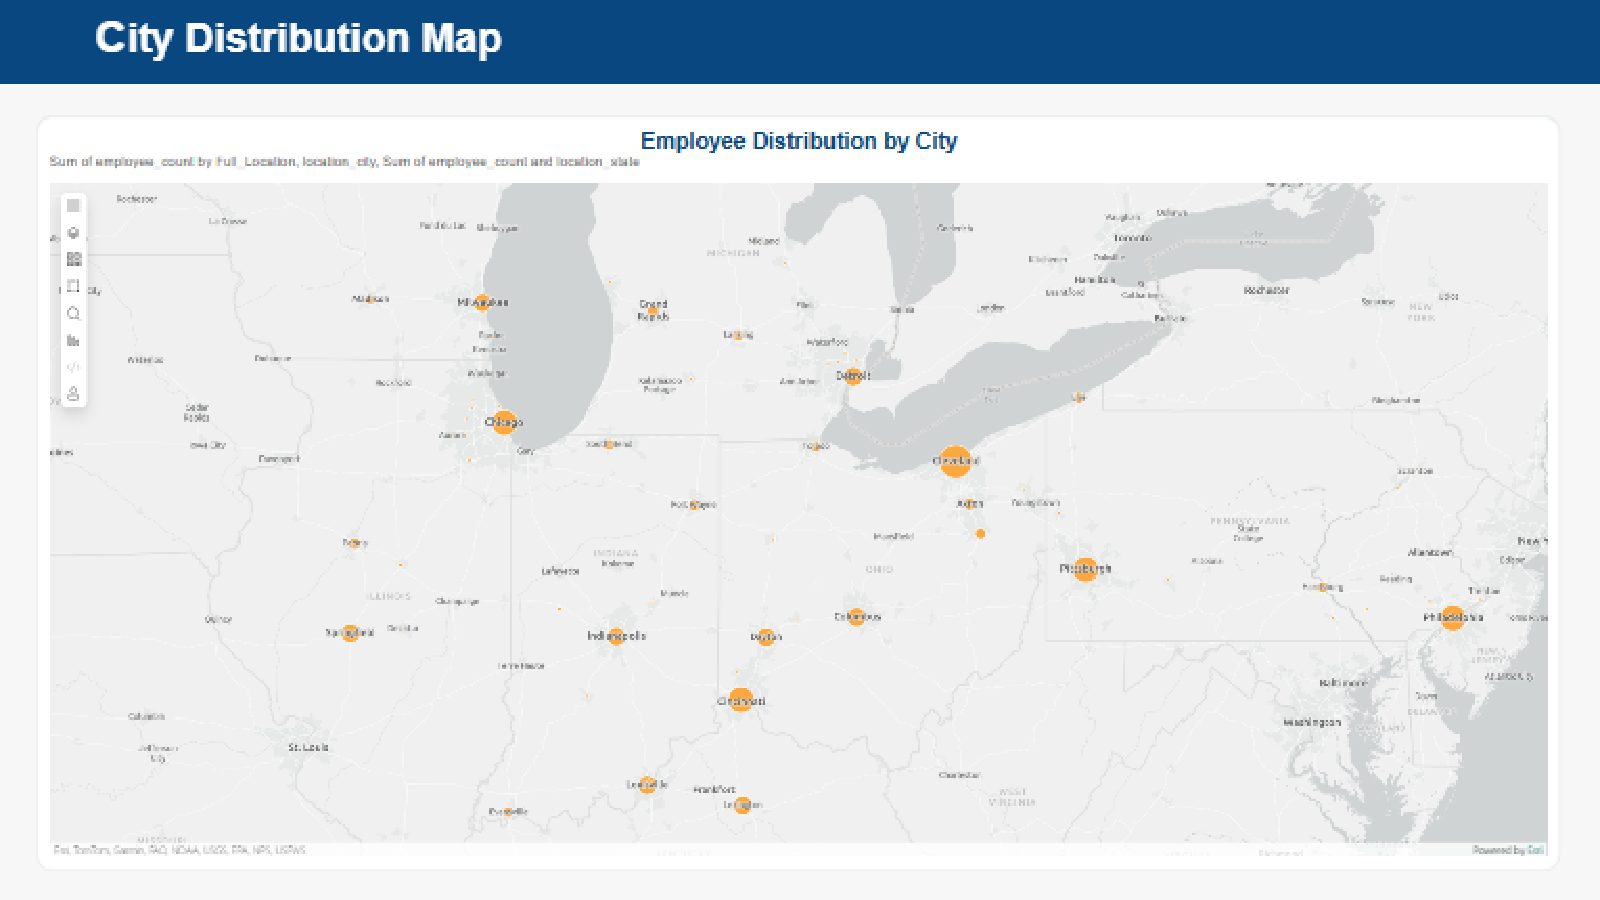

Layout of this report page (visuals, bound fields, positions):
{"tool":"powerbi","page":{"name":"City Distribution Map","canvas":[1920,1080],"ordinal":2},"visuals":[{"type":"esriVisual","title":"Employee Distribution by City","fields":{"Location":["09_City_Distribution.Full_Location"],"Size":["Sum(09_City_Distribution.employee_count)"]},"box":[47.5,142.5,1822.5,900],"z":0},{"type":"textbox","box":[0,0,1920,105],"z":1}]}

Visuals, with their boxes in screenshot pixels (x1, y1, x2, y2), scaled from the page's 1920x1080 canvas onto the 1600x900 screenshot:
"Employee Distribution by City" esriVisual: left=40, top=119, right=1558, bottom=869
textbox: left=0, top=0, right=1599, bottom=88
